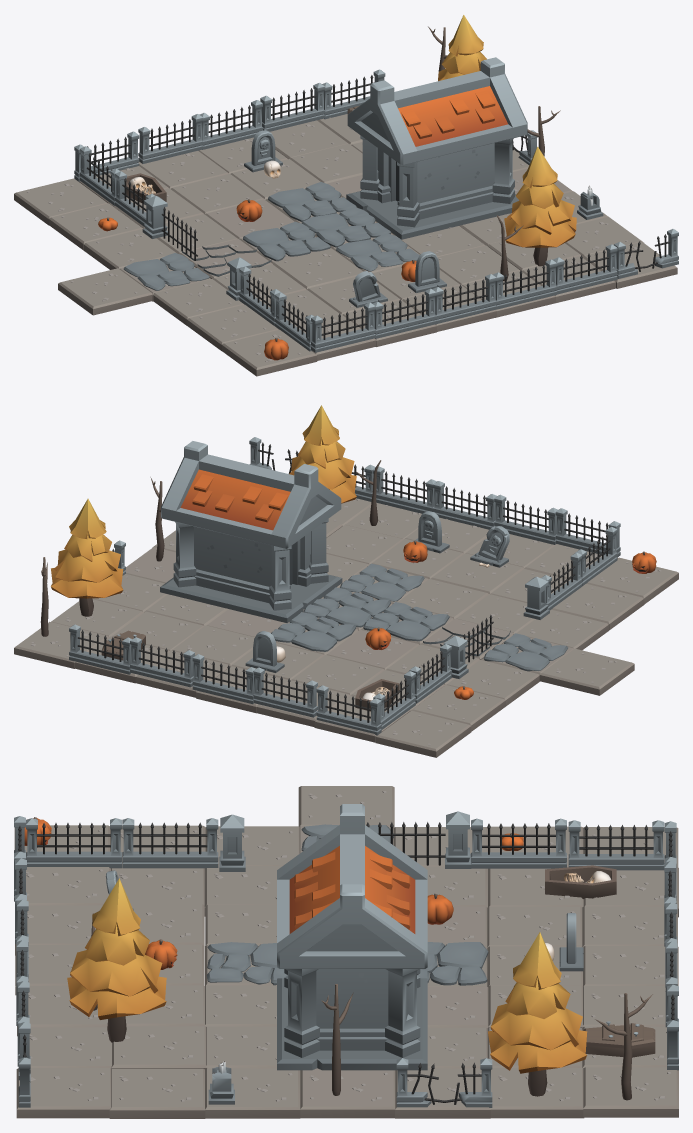
File: Graveyard.glb
3 views of the same model, one above another, from view 1: azimuth 30°, elevation 25°; view 2: azimuth 150°, elevation 25°; view 3: azimuth 270°, elevation 25° (orthographic). The views are drawn at different scales.
Visible parts, largest first — view 1: crypt, tree_pine_yellow_large.001, floor_dirt.050, floor_dirt.015, floor_dirt.017, floor_dirt.014, floor_dirt.013, floor_dirt.012, floor_dirt.016, floor_dirt.023, path_A, floor_dirt.018 (+53 smaller); view 2: crypt, tree_pine_yellow_large, tree_pine_yellow_large.001, floor_dirt.017, floor_dirt.050, floor_dirt.014, floor_dirt.012, floor_dirt.016, floor_dirt.013, floor_dirt.015, path_A.003, floor_dirt.018 (+55 smaller); view 3: crypt, tree_pine_yellow_large, tree_pine_yellow_large.001, floor_dirt.047, floor_dirt.038, floor_dirt.008, floor_dirt.049, floor_dirt.037, floor_dirt.040, floor_dirt.044, floor_dirt.018, floor_dirt.033 (+64 smaller).
Part boxes in pixels (x1,y1,x2,y2): crypt: [346, 57, 527, 239]; tree_pine_yellow_large.001: [504, 146, 576, 266]; floor_dirt.050: [58, 268, 152, 315]; floor_dirt.015: [221, 329, 317, 376]; floor_dirt.017: [14, 178, 107, 225]; floor_dirt.014: [186, 304, 278, 350]; floor_dirt.013: [153, 279, 243, 325]; floor_dirt.012: [84, 229, 175, 269]; floor_dirt.016: [49, 203, 142, 250]; floor_dirt.023: [272, 248, 362, 289]; path_A: [301, 207, 390, 247]; floor_dirt.018: [170, 173, 264, 214]; crypt: [160, 441, 342, 622]; tree_pine_yellow_large: [51, 498, 123, 616]; tree_pine_yellow_large.001: [289, 405, 356, 503]; floor_dirt.017: [375, 710, 471, 757]; floor_dirt.050: [539, 648, 634, 695]; floor_dirt.014: [551, 583, 644, 630]; floor_dirt.012: [446, 660, 539, 706]; floor_dirt.016: [411, 685, 505, 731]; floor_dirt.013: [516, 609, 608, 650]; floor_dirt.015: [586, 557, 678, 604]; path_A.003: [271, 612, 355, 651]; floor_dirt.018: [291, 655, 384, 695]; crypt: [277, 804, 427, 1070]; tree_pine_yellow_large: [488, 932, 587, 1096]; tree_pine_yellow_large.001: [67, 878, 166, 1042]; floor_dirt.047: [109, 1068, 205, 1118]; floor_dirt.038: [583, 1067, 678, 1117]; floor_dirt.008: [300, 1068, 395, 1118]; floor_dirt.049: [16, 1068, 111, 1118]; floor_dirt.037: [490, 1068, 583, 1118]; floor_dirt.040: [205, 1068, 300, 1118]; floor_dirt.044: [111, 1026, 207, 1069]; floor_dirt.018: [487, 906, 582, 947]; floor_dirt.033: [583, 946, 678, 985].
Size of the model in its own units: 32.78 by 8.96 by 27.77.
Materials: 94 (94 with a texture image).
